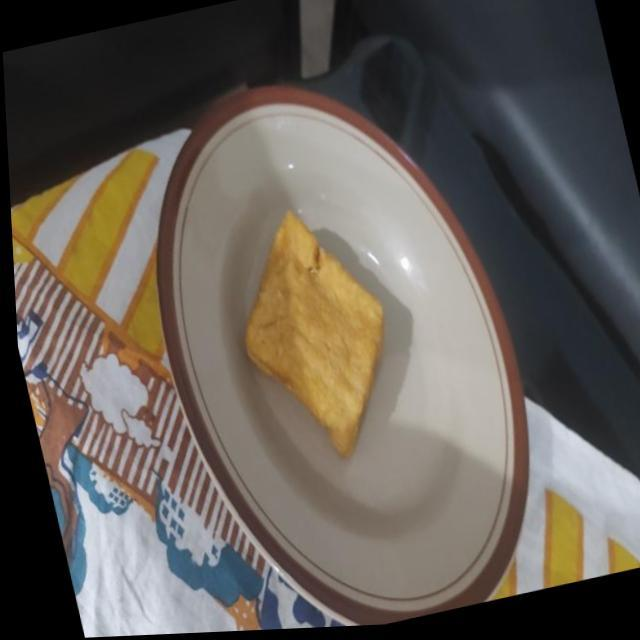tahu_goreng: (245, 210, 383, 457)
